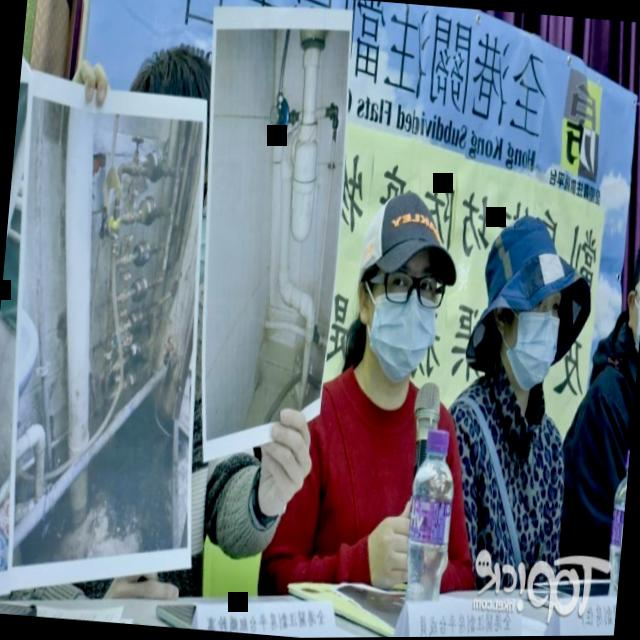Mask: (341, 187, 462, 404), (476, 216, 578, 405), (614, 201, 640, 375)
